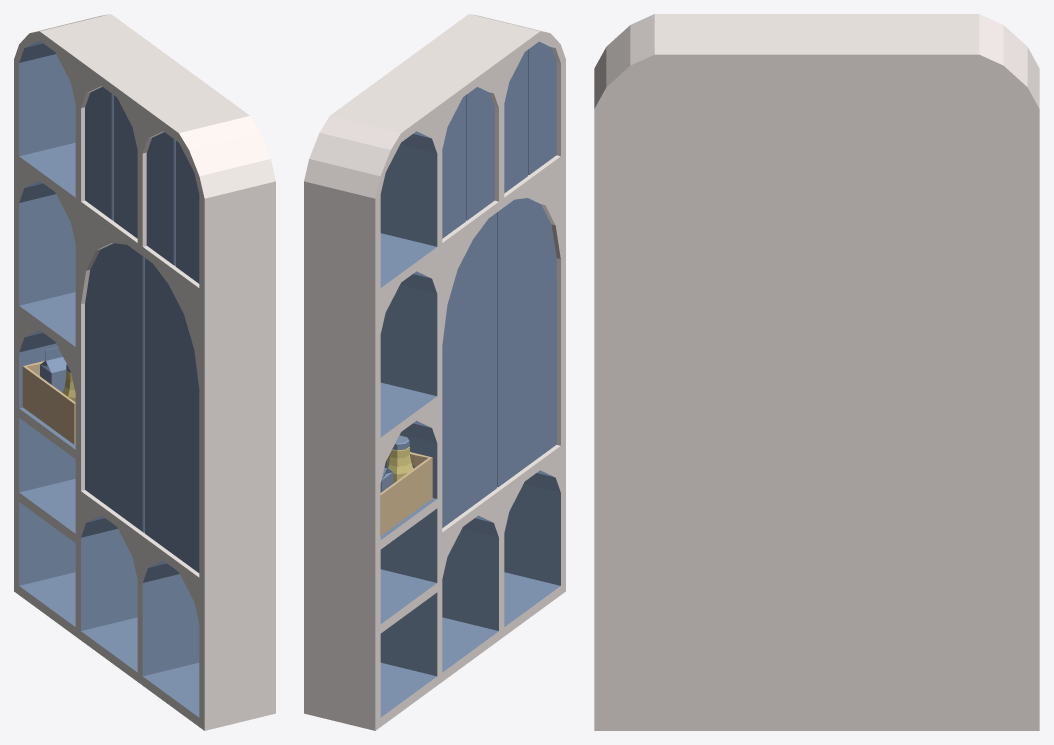
The model's file is Furn7_chest_color1_joined.fbx.
The picture shows the model from 3 angles, left to right: view 1: azimuth 30°, elevation 25°; view 2: azimuth 150°, elevation 25°; view 3: azimuth 270°, elevation 25°; orthographic projection. The views are drawn at different scales.
Visible parts, largest first — view 1: шкаф арочный.001; view 2: шкаф арочный.001; view 3: шкаф арочный.001.
Part boxes in pixels (x1,y1,x2,y2): шкаф арочный.001: (14, 14, 275, 730); шкаф арочный.001: (304, 14, 565, 730); шкаф арочный.001: (594, 14, 1039, 730).
Size of the model in its own units: 64 by 496 by 296.
